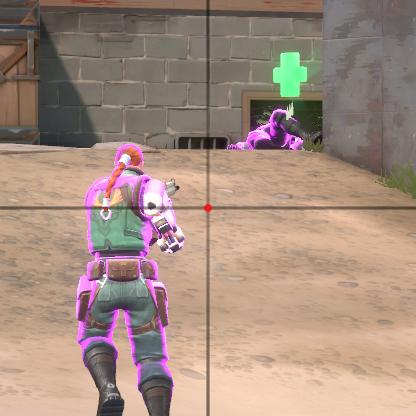enemyBody: (85, 184, 177, 311)
enemyHead: (115, 148, 147, 181)
